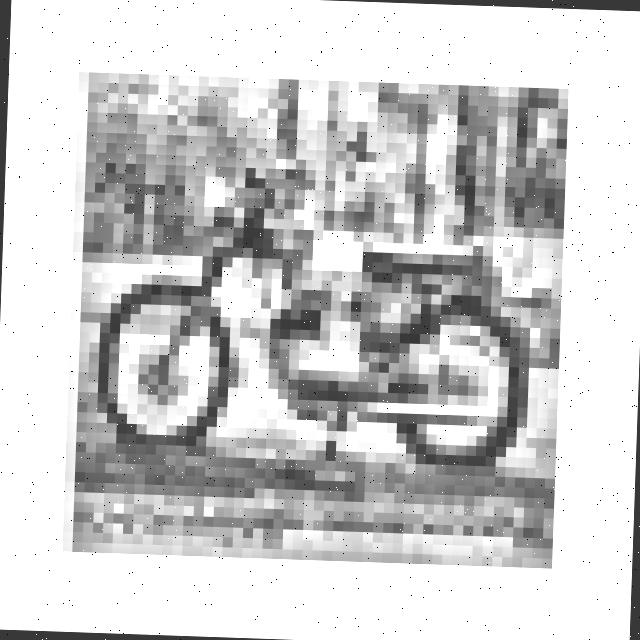mopeds: (82, 176, 534, 482)
